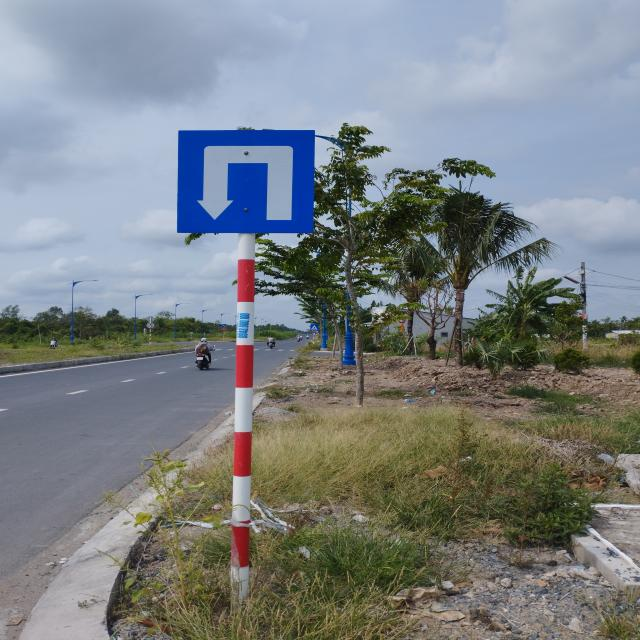Den_Giao_Thong: (178, 130, 314, 234)
